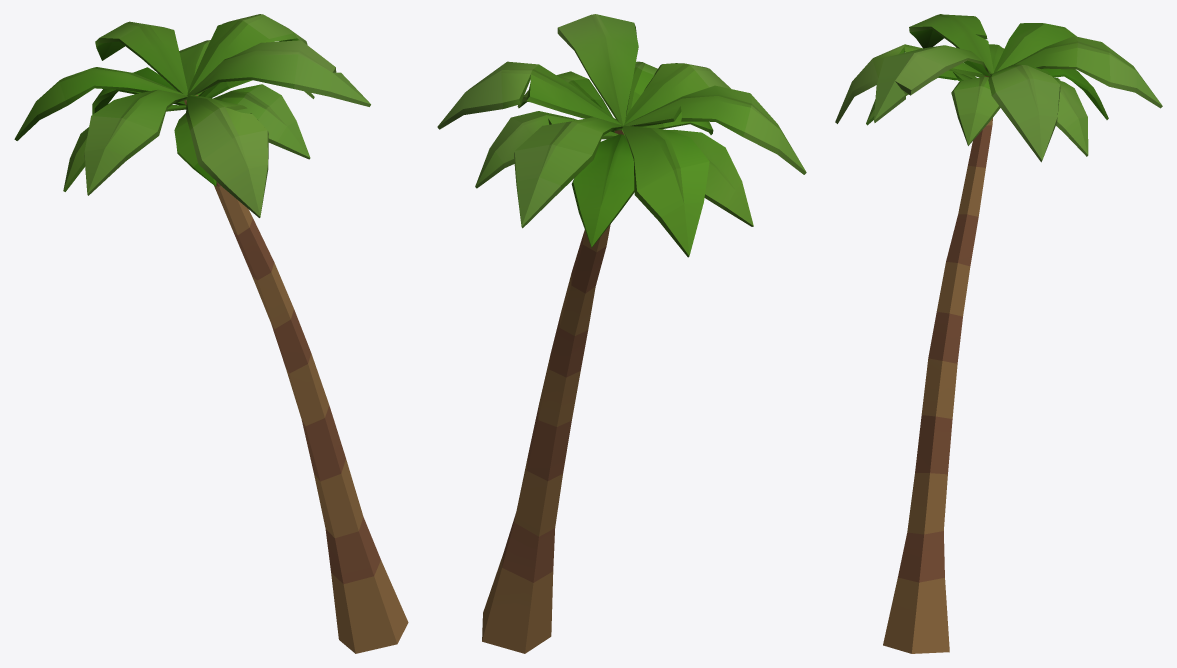
File: Anim_PalmTree_Colour.fbx
The picture shows the model from 3 angles, left to right: view 1: azimuth 30°, elevation 25°; view 2: azimuth 150°, elevation 25°; view 3: azimuth 270°, elevation 25°; orthographic projection. The views are drawn at different scales.
Parts seen in each view (by area): view 1: Anim_PalmTree_Colour; view 2: Anim_PalmTree_Colour; view 3: Anim_PalmTree_Colour.
Boxes of the visible parts, <box> form: Anim_PalmTree_Colour: <box>14,14,408,653</box>; Anim_PalmTree_Colour: <box>437,14,806,653</box>; Anim_PalmTree_Colour: <box>835,14,1162,653</box>.
Size of the model in its own units: 6.83 by 12.69 by 6.66.
